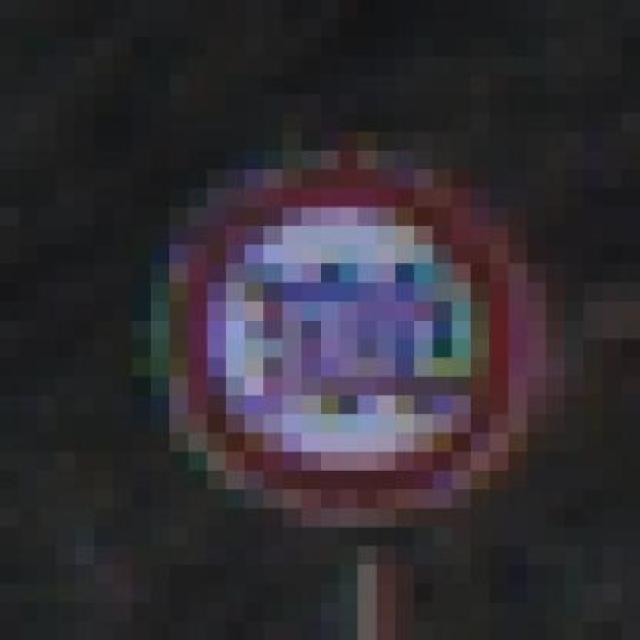forb_speed_over_100: (164, 161, 536, 515)
